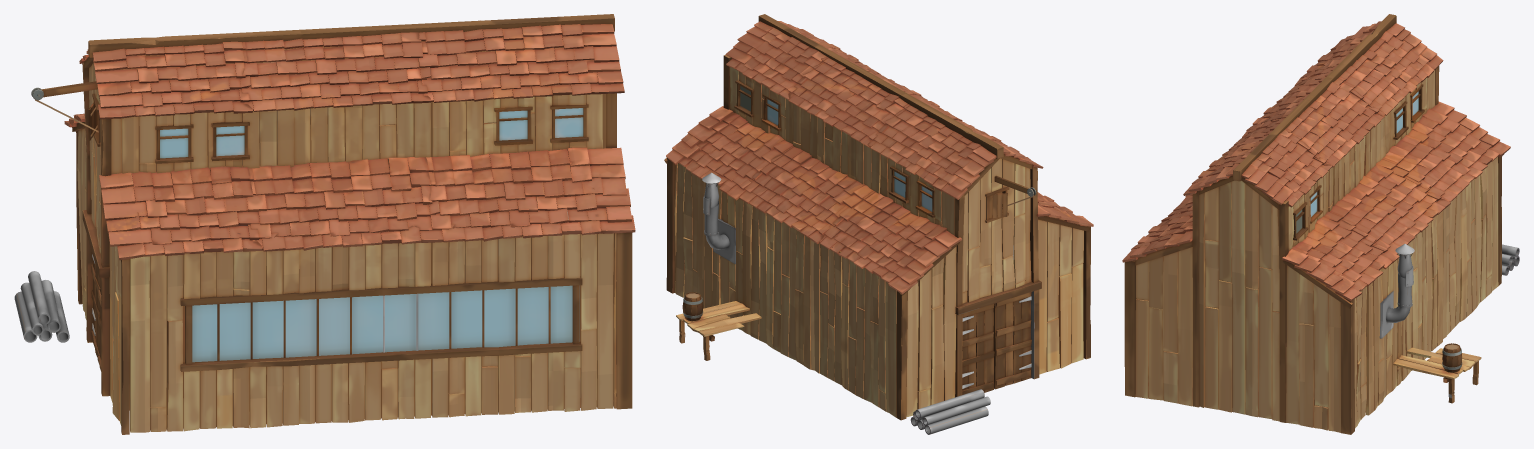
The model's file is farm.fbx.
3 views of the same model, side by side, from view 1: azimuth 30°, elevation 25°; view 2: azimuth 150°, elevation 25°; view 3: azimuth 270°, elevation 25° (orthographic). The views are drawn at different scales.
Parts seen in each view (by area): view 1: curch.001_Baked; view 2: curch.001_Baked; view 3: curch.001_Baked.
Boxes of the visible parts, box(x1,y1,x2,y2) form: curch.001_Baked: box(14, 14, 635, 434); curch.001_Baked: box(664, 14, 1093, 434); curch.001_Baked: box(1122, 14, 1519, 434).
Size of the model in its own units: 1134 by 670 by 978.
